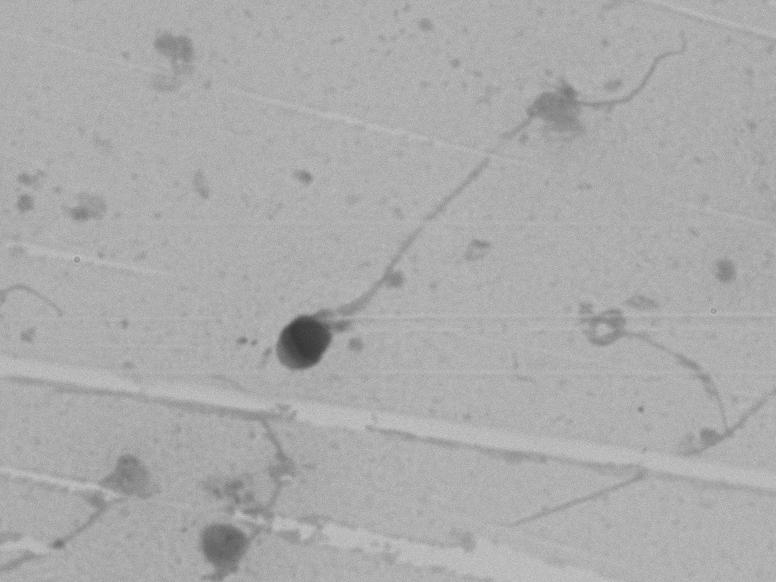Abnormal: (212, 101, 585, 394)
